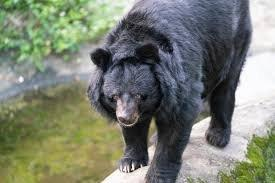bear: (86, 0, 253, 183)
